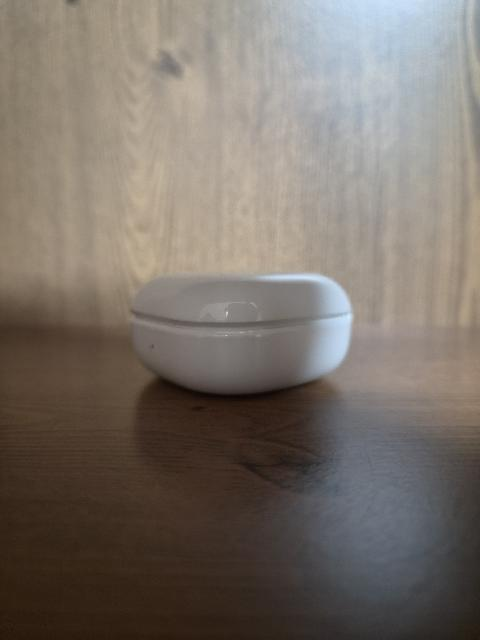earphone_case: (130, 273, 352, 395)
